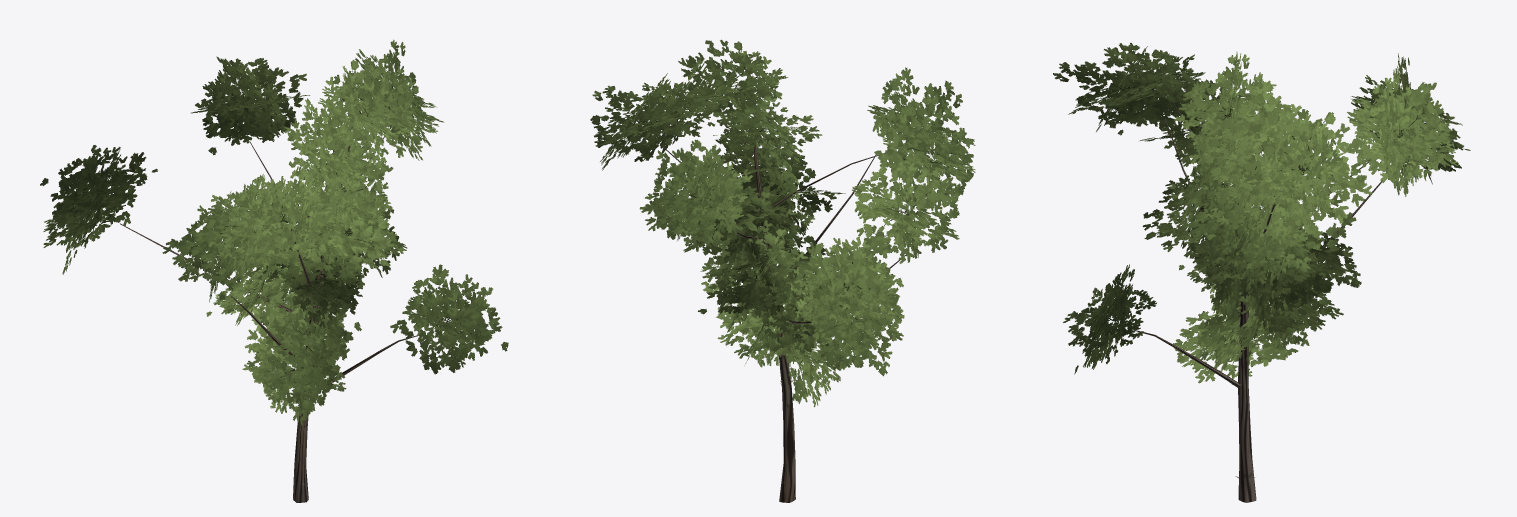
File: sapling-a.lod0.glb
3 views of the same model, side by side, from view 1: azimuth 30°, elevation 25°; view 2: azimuth 150°, elevation 25°; view 3: azimuth 270°, elevation 25° (orthographic). The views are drawn at different scales.
Parts seen in each view (by area): view 1: foliage, bark; view 2: foliage, bark; view 3: foliage, bark.
Part boxes in pixels (bbox=[...]): foliage: bbox=[40, 39, 508, 425]; bark: bbox=[120, 136, 417, 502]; foliage: bbox=[590, 39, 975, 407]; bark: bbox=[662, 122, 905, 502]; foliage: bbox=[1053, 43, 1470, 383]; bark: bbox=[1133, 102, 1382, 502].
Bounding box in the file's own units: 1.17 × 1.3 × 1.08.
3 materials, 2 textured.
